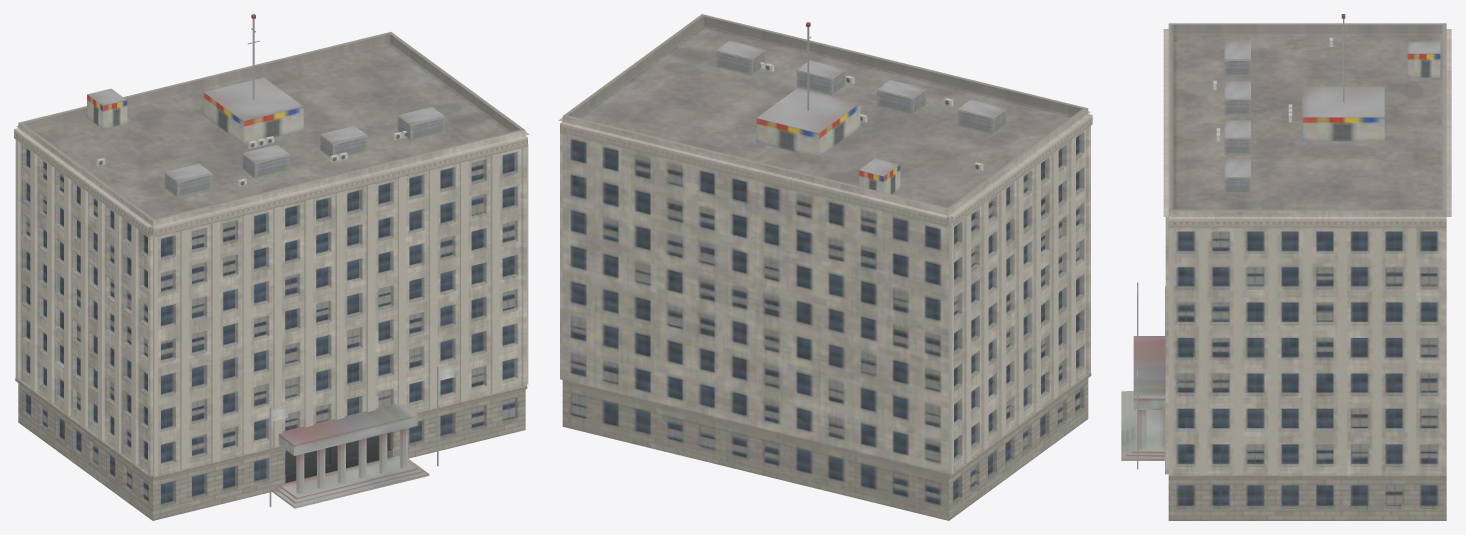
File: tokyo_midrise_b.glb
3 renders of one model, left to right at view 1: azimuth 30°, elevation 25°; view 2: azimuth 150°, elevation 25°; view 3: azimuth 270°, elevation 25°, orthographic. The views are drawn at different scales.
Parts seen in each view (by area): view 1: tokyo_midrise_b; view 2: tokyo_midrise_b; view 3: tokyo_midrise_b.
Part boxes in pixels (x1,y1,x2,y2): tokyo_midrise_b: (14,14,529,520); tokyo_midrise_b: (558,14,1092,520); tokyo_midrise_b: (1121,14,1451,520).
Bounding box in the file's own units: 44.2 × 44.15 × 32.1.
1 material, 1 textured.
